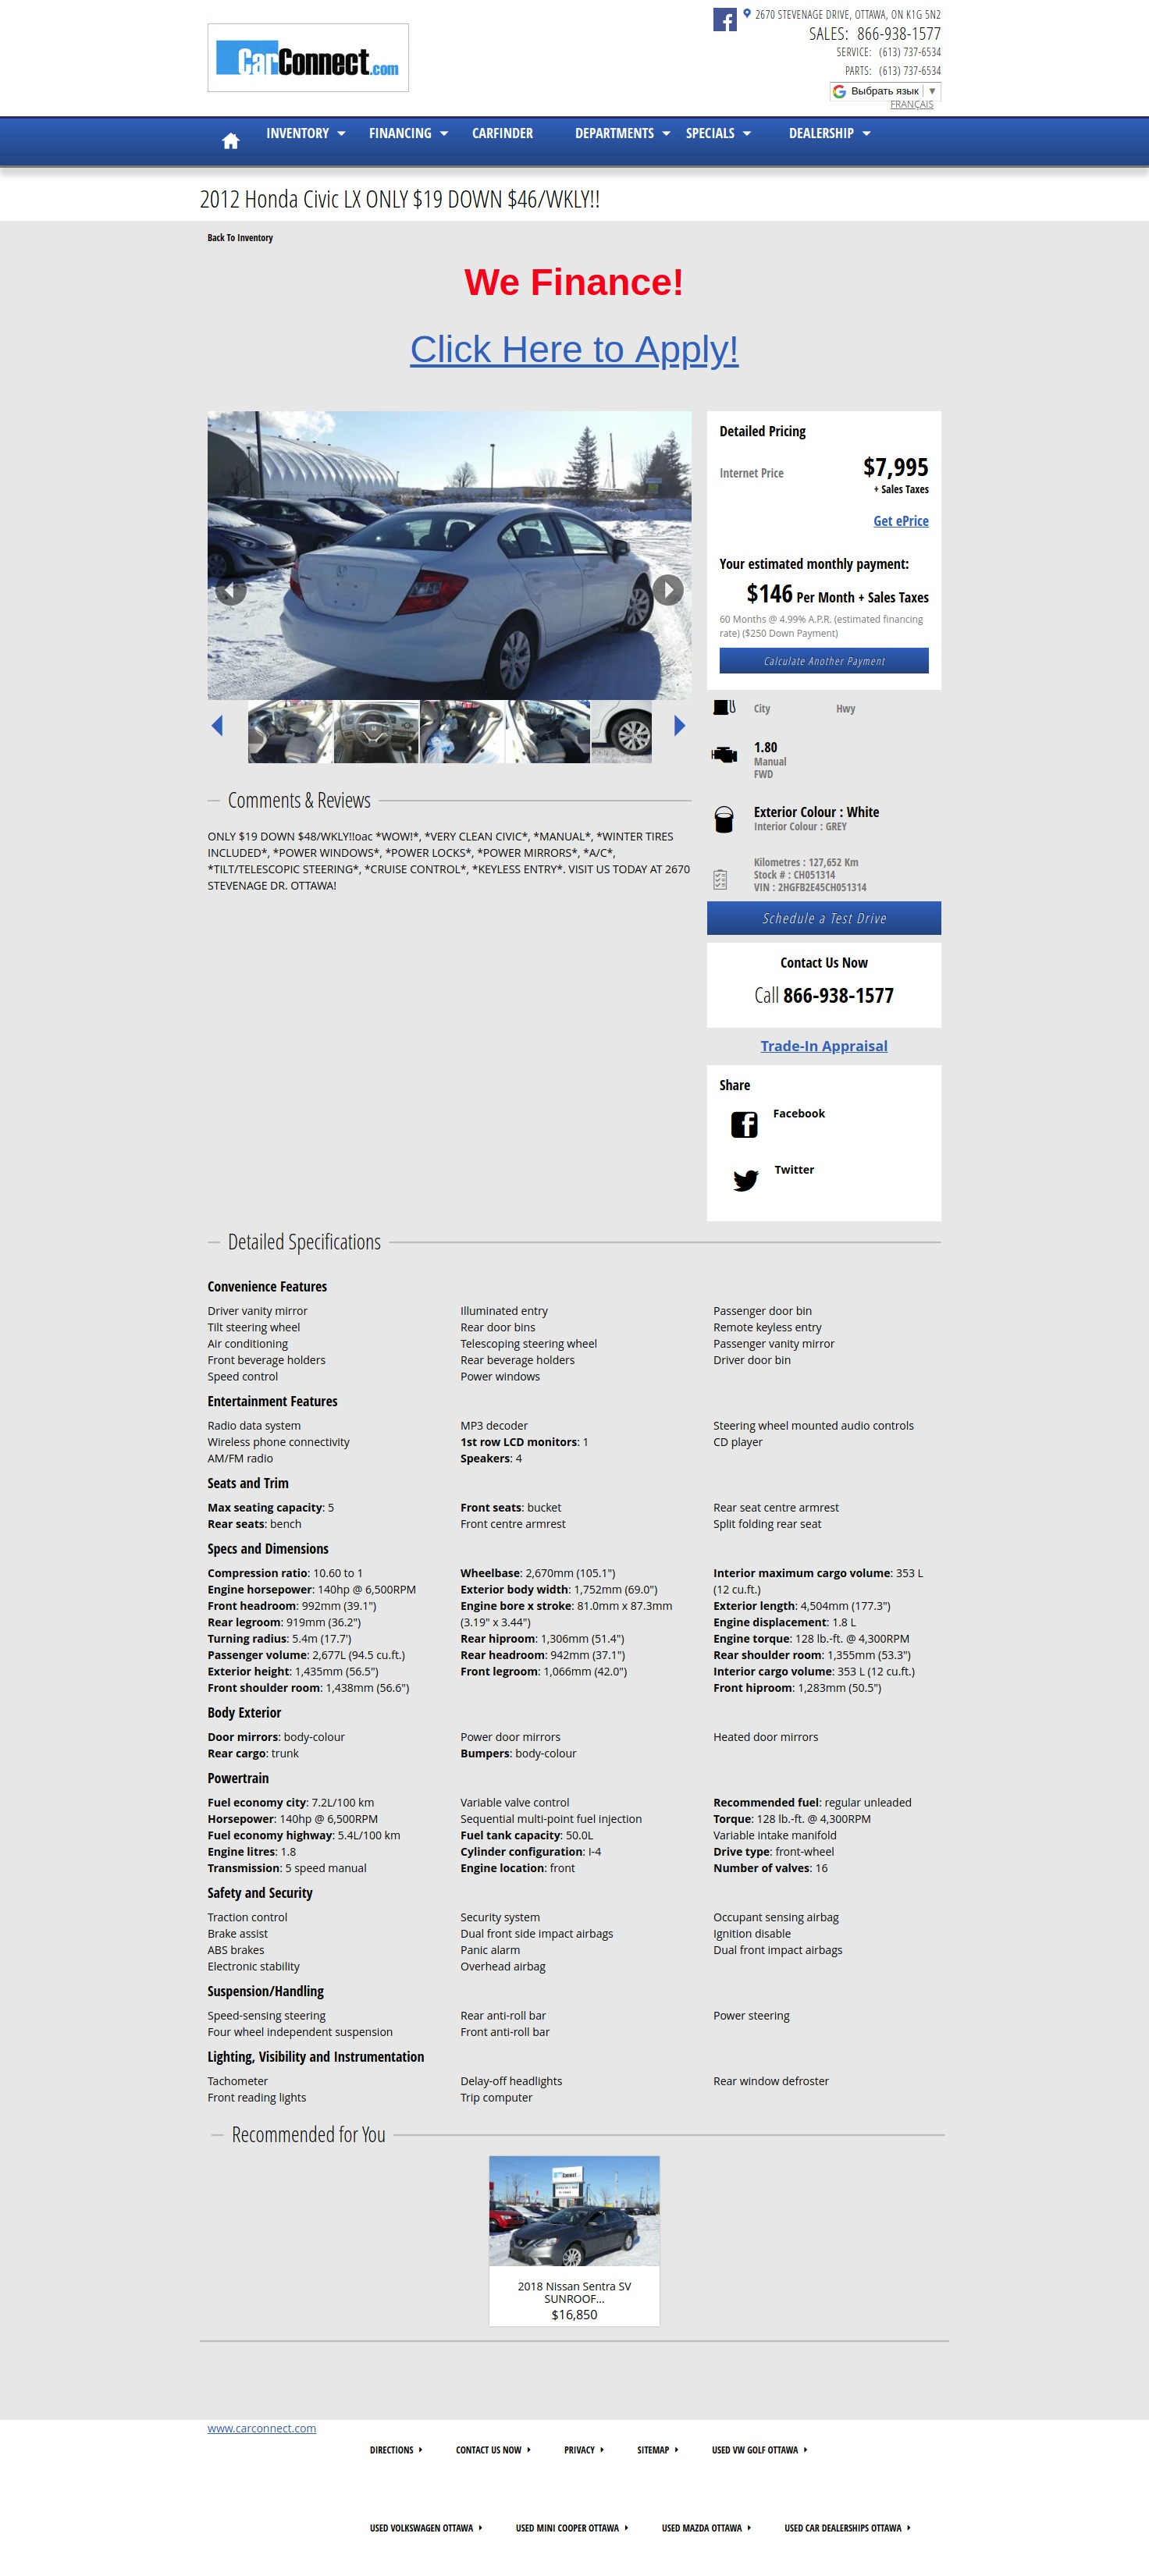car: (674, 715, 687, 738)
